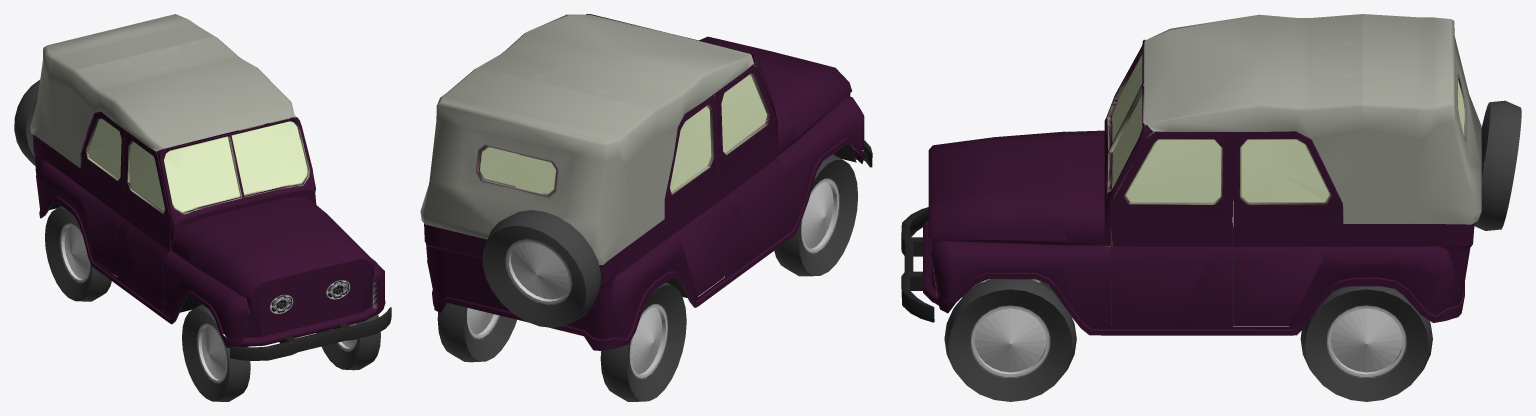
Rendered from PurpleJeep.FBX.
3 views of the same model, side by side, from view 1: azimuth 30°, elevation 25°; view 2: azimuth 150°, elevation 25°; view 3: azimuth 270°, elevation 25° (orthographic). The views are drawn at different scales.
Visible parts, largest first — view 1: кузов_low; view 2: кузов_low; view 3: кузов_low.
Part boxes in pixels (x1,y1,x2,y2): кузов_low: [14, 14, 391, 401]; кузов_low: [420, 14, 872, 401]; кузов_low: [901, 14, 1521, 401].
Size of the model in its own units: 15.69 by 21.4 by 40.14.
